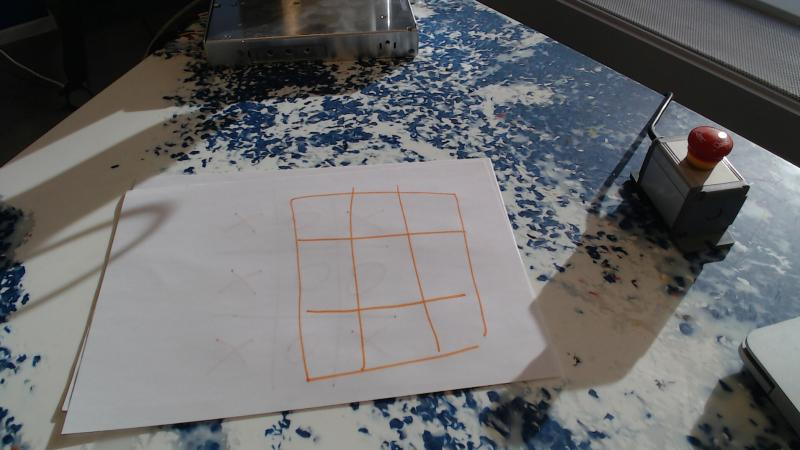grid: (288, 193, 492, 375)
